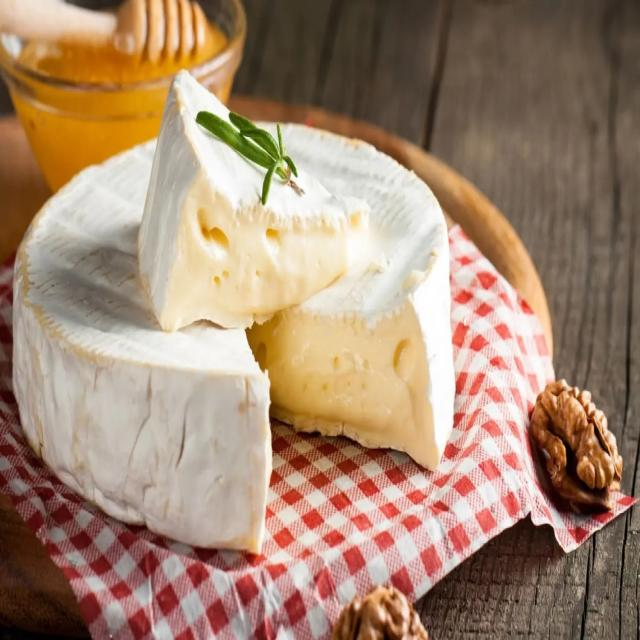Cheese: (6, 124, 456, 562), (139, 79, 373, 324)
